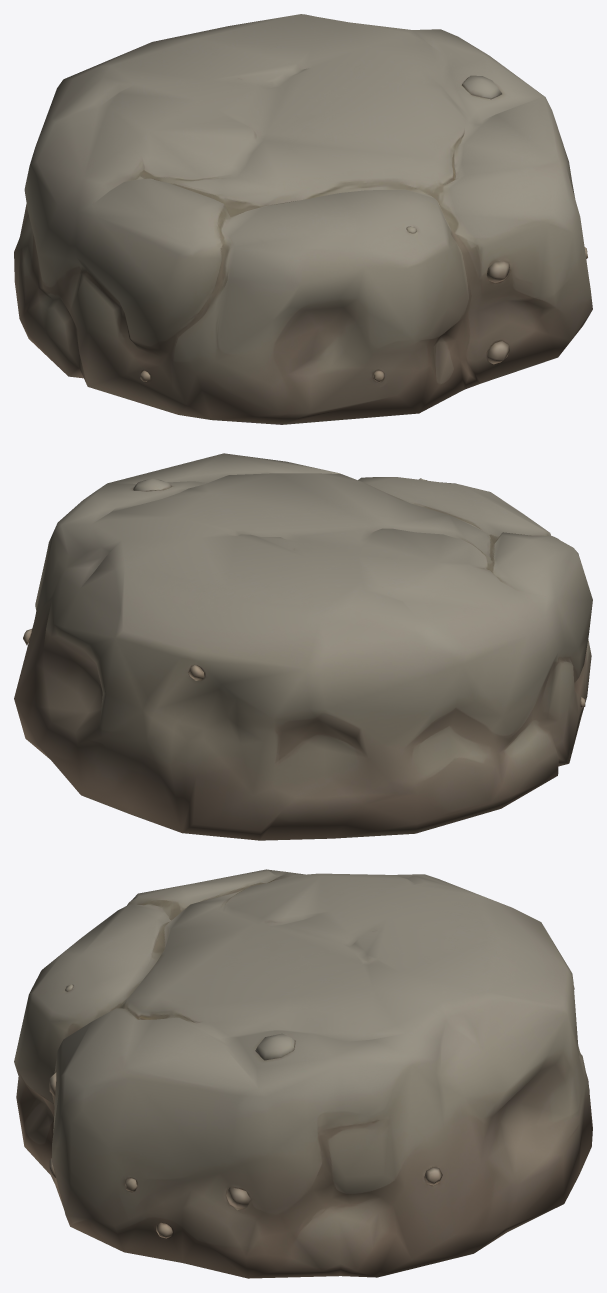
3 views of the same model, one above another, from view 1: azimuth 30°, elevation 25°; view 2: azimuth 150°, elevation 25°; view 3: azimuth 270°, elevation 25° (orthographic). The views are drawn at different scales.
Parts seen in each view (by area): view 1: tripo_node_71ef4f1b-a8cc-4f4d-9c9e-3b9c79f9df60; view 2: tripo_node_71ef4f1b-a8cc-4f4d-9c9e-3b9c79f9df60; view 3: tripo_node_71ef4f1b-a8cc-4f4d-9c9e-3b9c79f9df60.
Boxes of the visible parts, left/top/right/bottom form: tripo_node_71ef4f1b-a8cc-4f4d-9c9e-3b9c79f9df60: left=14, top=14, right=592, bottom=424; tripo_node_71ef4f1b-a8cc-4f4d-9c9e-3b9c79f9df60: left=14, top=453, right=592, bottom=840; tripo_node_71ef4f1b-a8cc-4f4d-9c9e-3b9c79f9df60: left=14, top=869, right=592, bottom=1278.
Size of the model in its own units: 0.998 by 0.4043 by 0.9863.
1 material, 1 textured.
